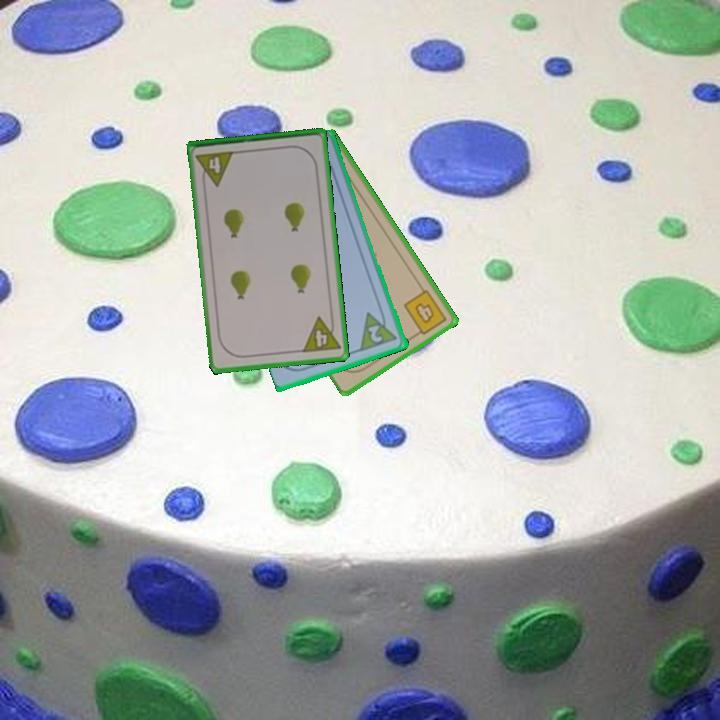2p: (357, 305, 401, 354)
4b: (400, 286, 450, 340)
4p: (299, 312, 343, 356), (193, 147, 237, 190)
